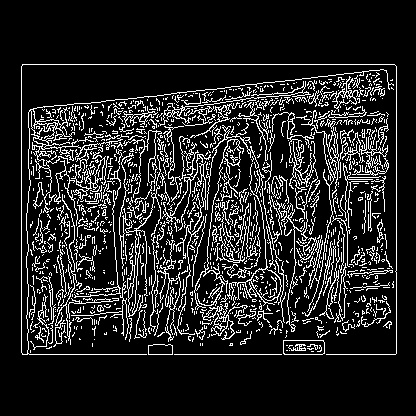buddha-sitting: (84, 169, 238, 224)
